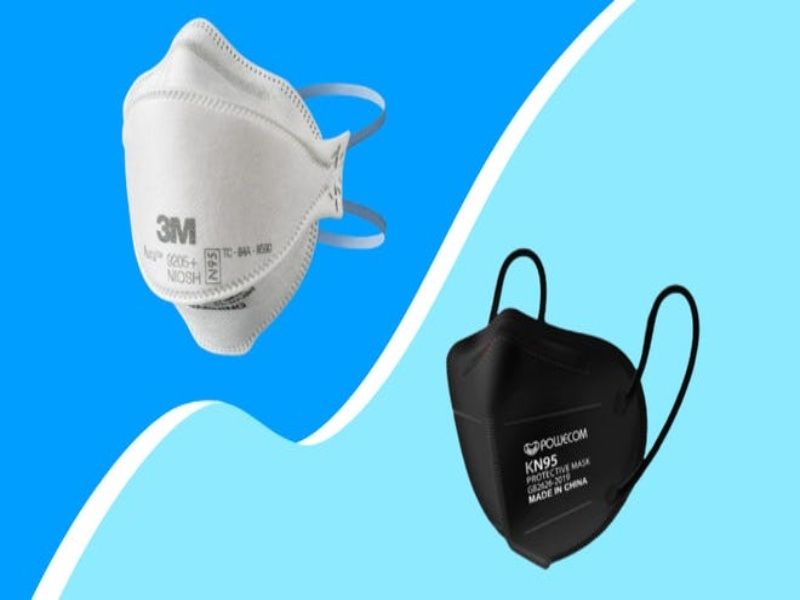mask: (119, 15, 354, 358), (444, 306, 648, 570)
